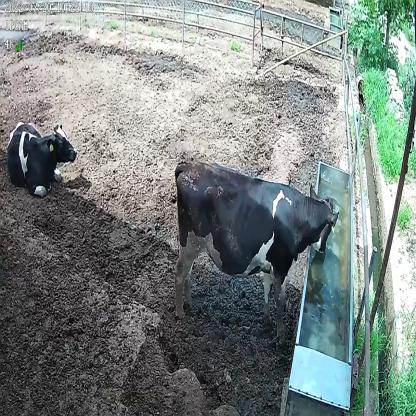cow: (171, 157, 340, 324), (5, 114, 78, 200)
